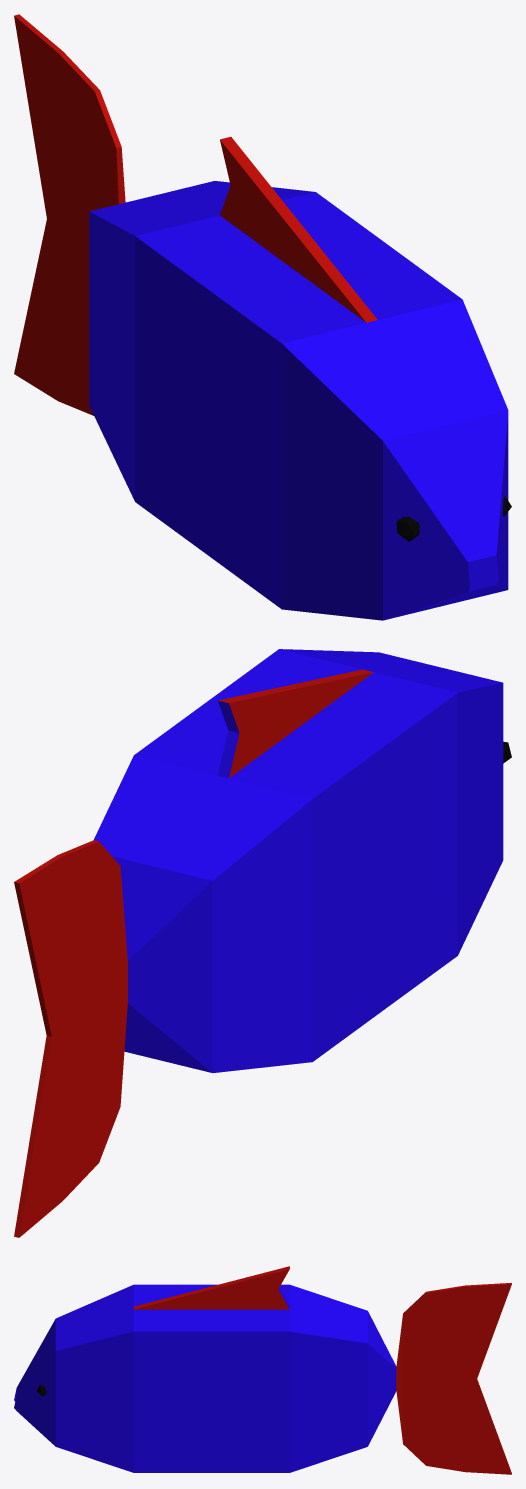
The model's file is FishBlueRedEyes.fbx.
3 renders of one model, top to bottom at view 1: azimuth 30°, elevation 25°; view 2: azimuth 150°, elevation 25°; view 3: azimuth 270°, elevation 25°, orthographic. The views are drawn at different scales.
Parts seen in each view (by area): view 1: fish; view 2: fish; view 3: fish.
Part boxes in pixels (x1,y1,x2,y2): fish: (14, 14, 508, 620); fish: (14, 649, 503, 1237); fish: (14, 1266, 511, 1474).
Bounding box in the file's own units: 142 × 292 × 638.
